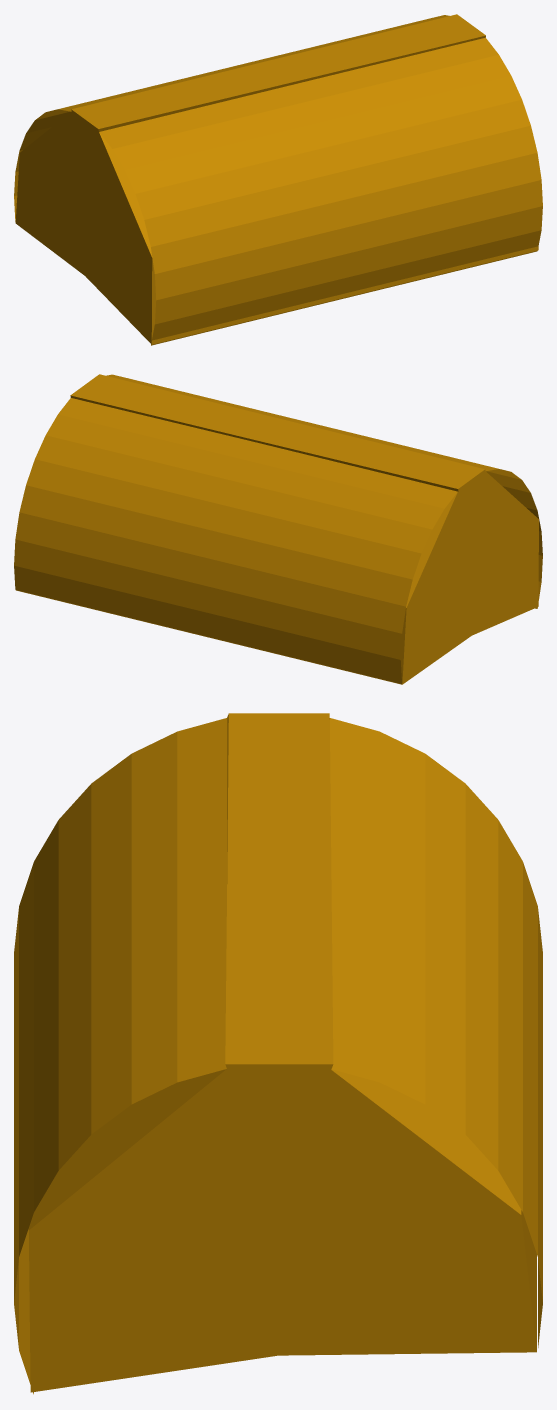
Rendered from RotiLempuyungan.glb.
3 views of the same model, one above another, from view 1: azimuth 30°, elevation 25°; view 2: azimuth 150°, elevation 25°; view 3: azimuth 270°, elevation 25° (orthographic). The views are drawn at different scales.
Parts seen in each view (by area): view 1: Cylinder.008; view 2: Cylinder.008; view 3: Cylinder.008.
Boxes of the visible parts, x1,y1,x2,y2 form: Cylinder.008: [14, 14, 542, 345]; Cylinder.008: [14, 374, 542, 684]; Cylinder.008: [14, 713, 542, 1394].
Size of the model in its own units: 0.1957 by 0.0862 by 0.1247.
